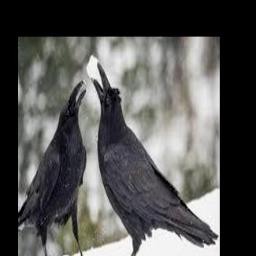Crow: (91, 61, 219, 256), (18, 79, 88, 256)
